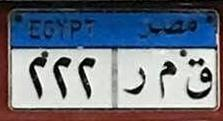2: (26, 55, 48, 101), (52, 55, 73, 98), (79, 57, 99, 98)
meem: (154, 60, 178, 97)
qaaf: (184, 55, 214, 99)
raa: (124, 67, 147, 97)
